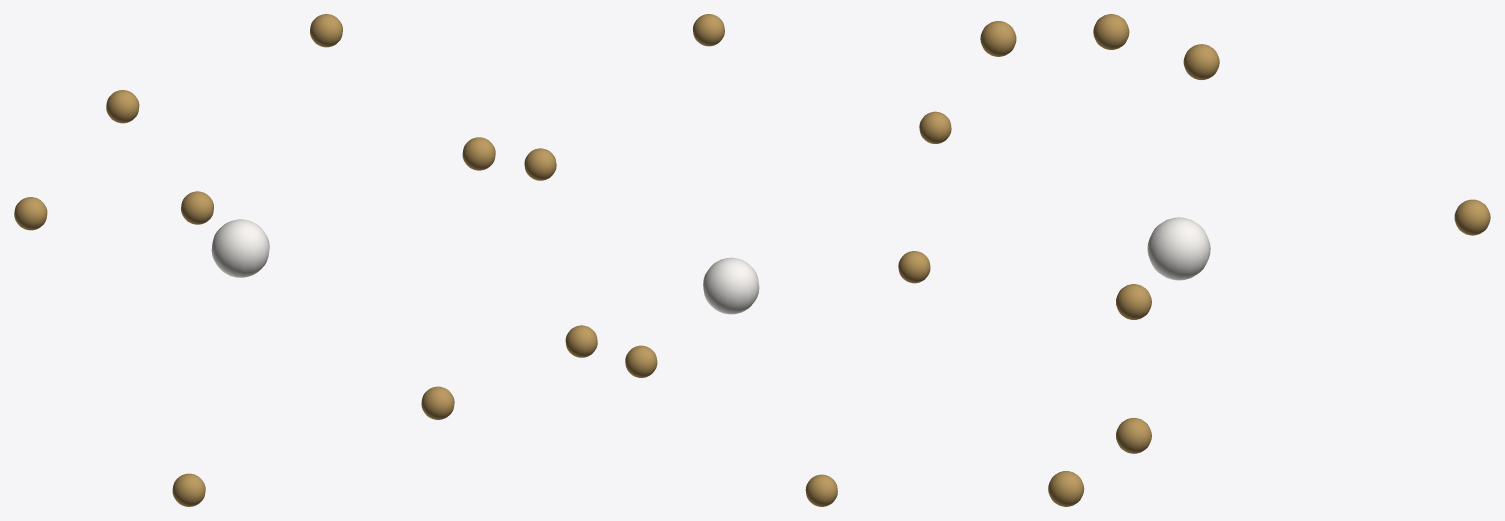
File: scene-capital-chain.glb
The picture shows the model from 3 angles, left to right: view 1: azimuth 30°, elevation 25°; view 2: azimuth 150°, elevation 25°; view 3: azimuth 270°, elevation 25°; orthographic projection. The views are drawn at different scales.
Bounding box in the file's own units: 2.46 × 2.46 × 2.26.
